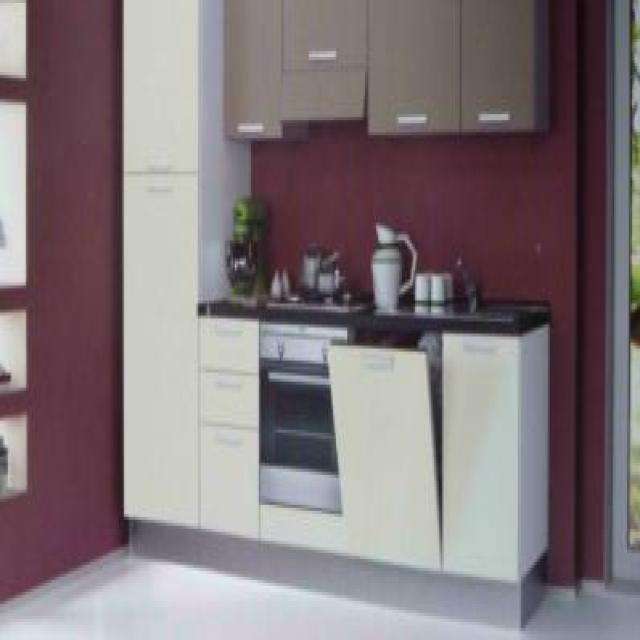dishwasher: (324, 318, 440, 571)
